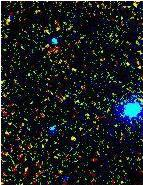star: (61, 125, 91, 155)
